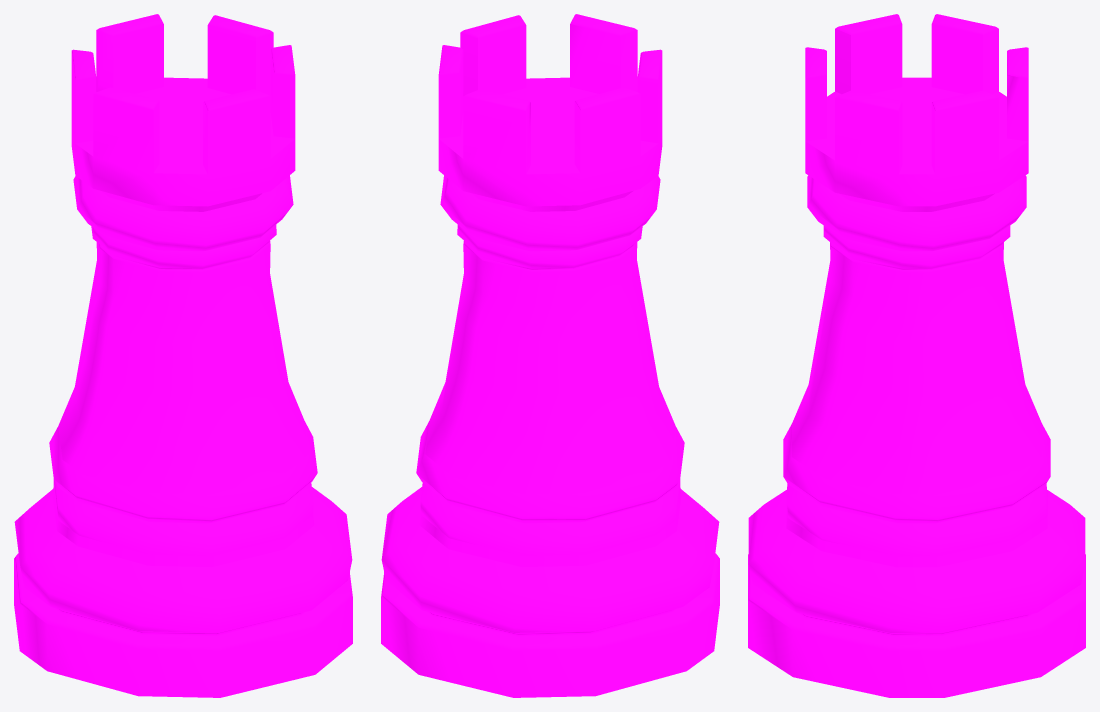
File: item-3-11.glb
The picture shows the model from 3 angles, left to right: view 1: azimuth 30°, elevation 25°; view 2: azimuth 150°, elevation 25°; view 3: azimuth 270°, elevation 25°; orthographic projection.
Parts seen in each view (by area): view 1: BlackTower; view 2: BlackTower; view 3: BlackTower.
Boxes of the visible parts, x1,y1,x2,y2 form: BlackTower: (14,14,352,697); BlackTower: (381,14,719,697); BlackTower: (748,14,1085,697).
Size of the model in its own units: 0.092 by 0.1651 by 0.0897.
